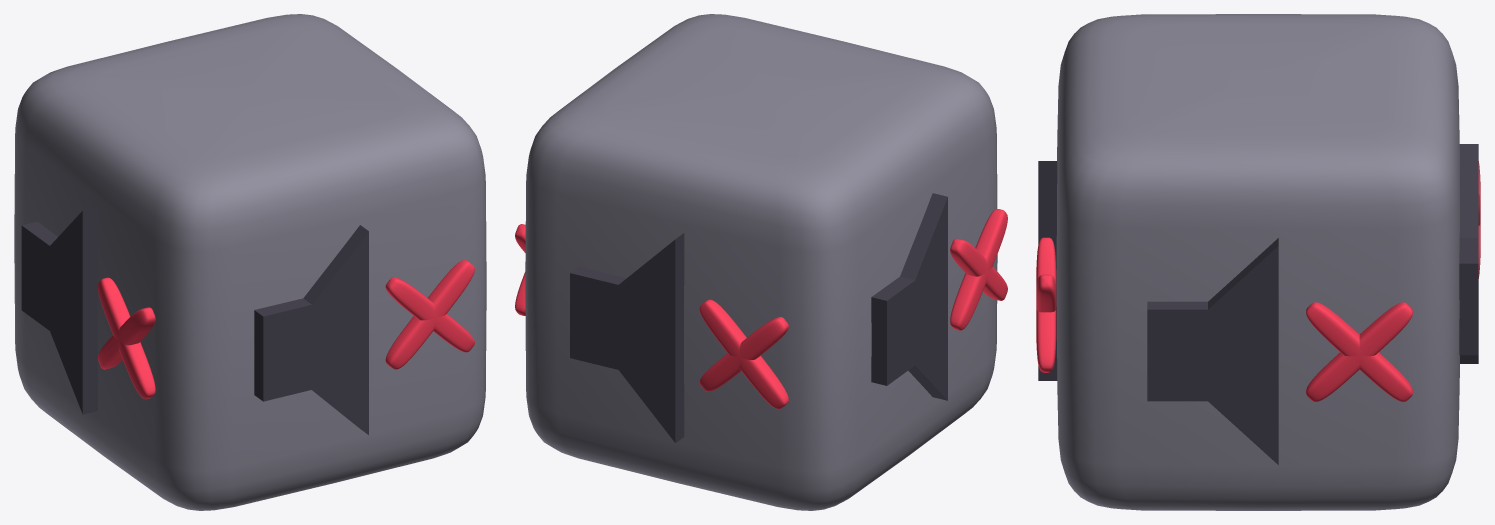
The model's file is MuteBlock.obj.
The picture shows the model from 3 angles, left to right: view 1: azimuth 30°, elevation 25°; view 2: azimuth 150°, elevation 25°; view 3: azimuth 270°, elevation 25°; orthographic projection. The views are drawn at different scales.
Parts seen in each view (by area): view 1: Block, Icon_Speaker, Icon_X; view 2: Block, Icon_Speaker, Icon_X; view 3: Block, Icon_Speaker, Icon_X.
Part boxes in pixels (x1,y1,x2,y2): Block: (14, 14, 486, 510); Icon_Speaker: (21, 207, 368, 434); Icon_X: (98, 260, 474, 399); Block: (525, 14, 997, 510); Icon_Speaker: (570, 193, 947, 442); Icon_X: (515, 209, 1007, 409); Block: (1056, 14, 1459, 510); Icon_Speaker: (1038, 144, 1478, 464); Icon_X: (1036, 161, 1480, 401).
Size of the model in its own units: 0.22 by 0.2 by 0.22.
